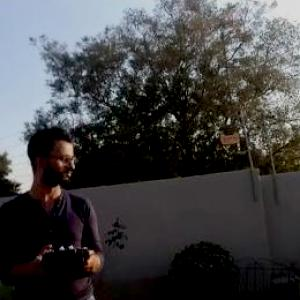follow: (1, 116, 109, 299)
